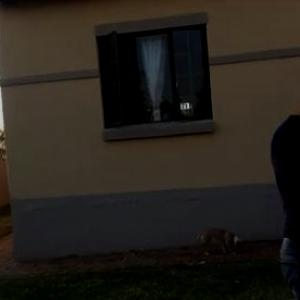follow: (263, 39, 300, 299)
null: (189, 223, 251, 259)
